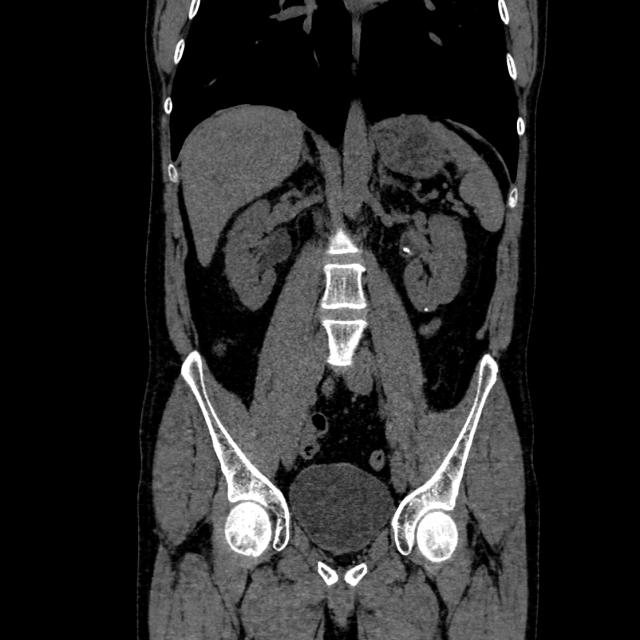kidney: (220, 194, 305, 314), (396, 210, 468, 316)
stone: (401, 243, 413, 259), (421, 304, 434, 315)
